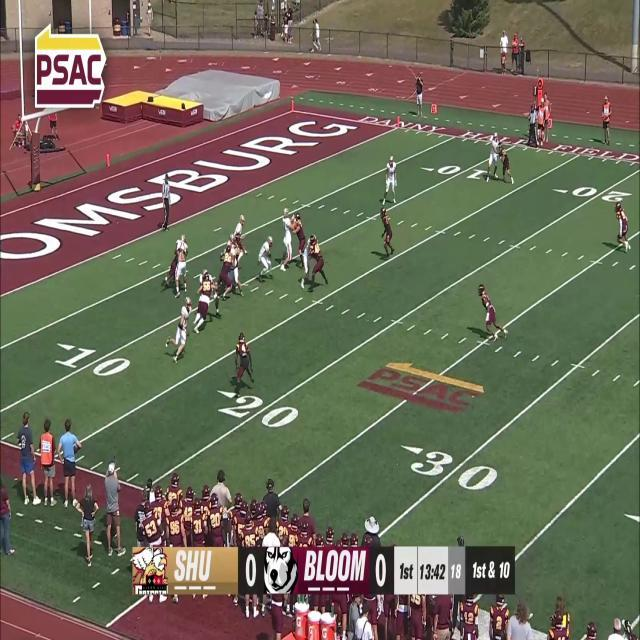football: (267, 250, 272, 258)
